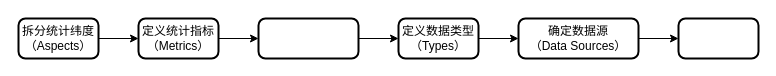
This 776x76 diagram has some shape labels left out. The centre of each missing label's shape, as x and y in pixels:
"明确分析目标 （Data Analysis）" belongs at (x=308, y=38).
"采集数据" belongs at (x=718, y=38).
